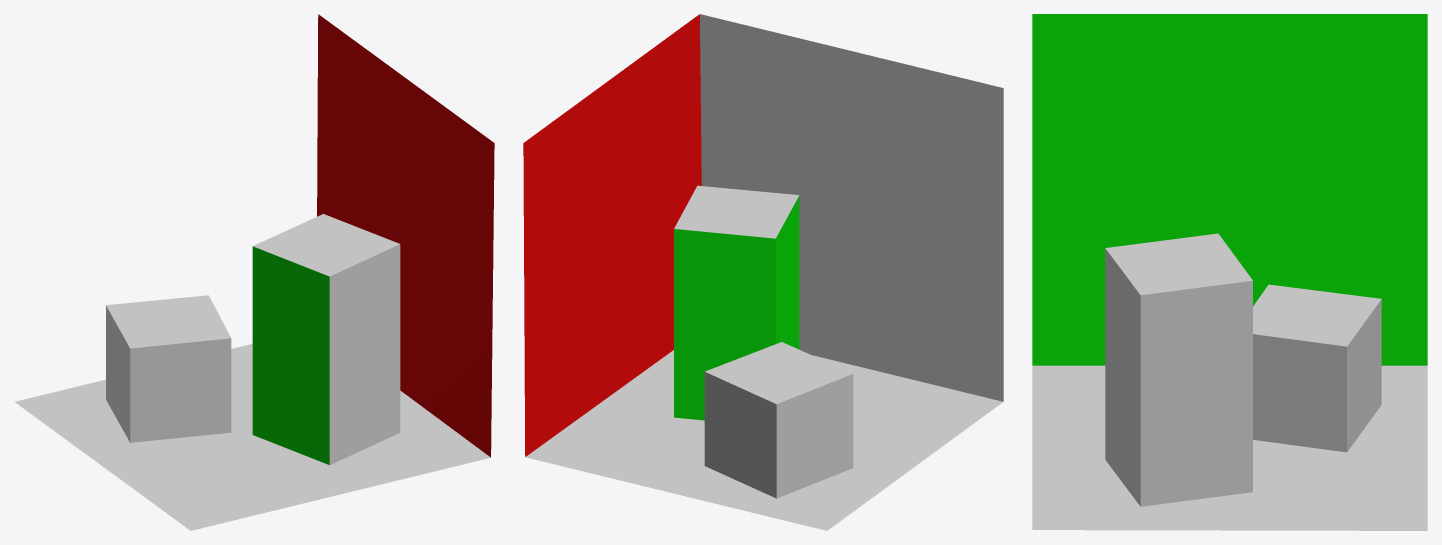
The model's file is cornell_box.glb.
The picture shows the model from 3 angles, left to right: view 1: azimuth 30°, elevation 25°; view 2: azimuth 150°, elevation 25°; view 3: azimuth 270°, elevation 25°; orthographic projection. The views are drawn at different scales.
Parts seen in each view (by area): view 1: Object_5, Object_3, Object_4; view 2: Object_5, Object_3, Object_4; view 3: Object_4, Object_5.
Part boxes in pixels (left/top/right/bottom): Object_5: left=15, top=214, right=490, bottom=530; Object_3: left=317, top=14, right=494, bottom=457; Object_4: left=252, top=246, right=329, bottom=464; Object_5: left=525, top=14, right=1003, bottom=530; Object_3: left=523, top=14, right=701, bottom=456; Object_4: left=674, top=196, right=799, bottom=420; Object_4: left=1032, top=14, right=1427, bottom=365; Object_5: left=1032, top=233, right=1427, bottom=530.
Size of what is drawn, in the model's own units: 556 by 549 by 559.
